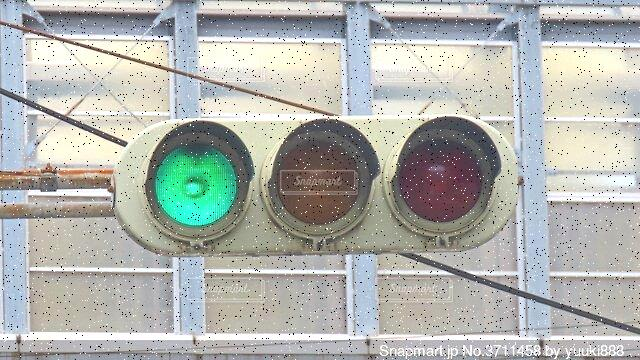cars: (107, 116, 521, 247)
